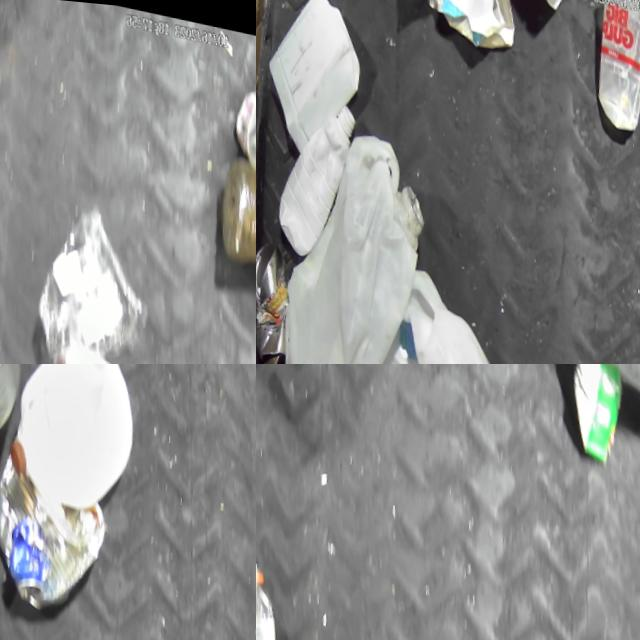can: (0, 441, 115, 620), (353, 252, 525, 364), (256, 234, 291, 364)
milk_jug: (256, 109, 445, 364), (0, 364, 149, 513), (256, 0, 373, 162)
plastic_bottle: (256, 550, 284, 640)
